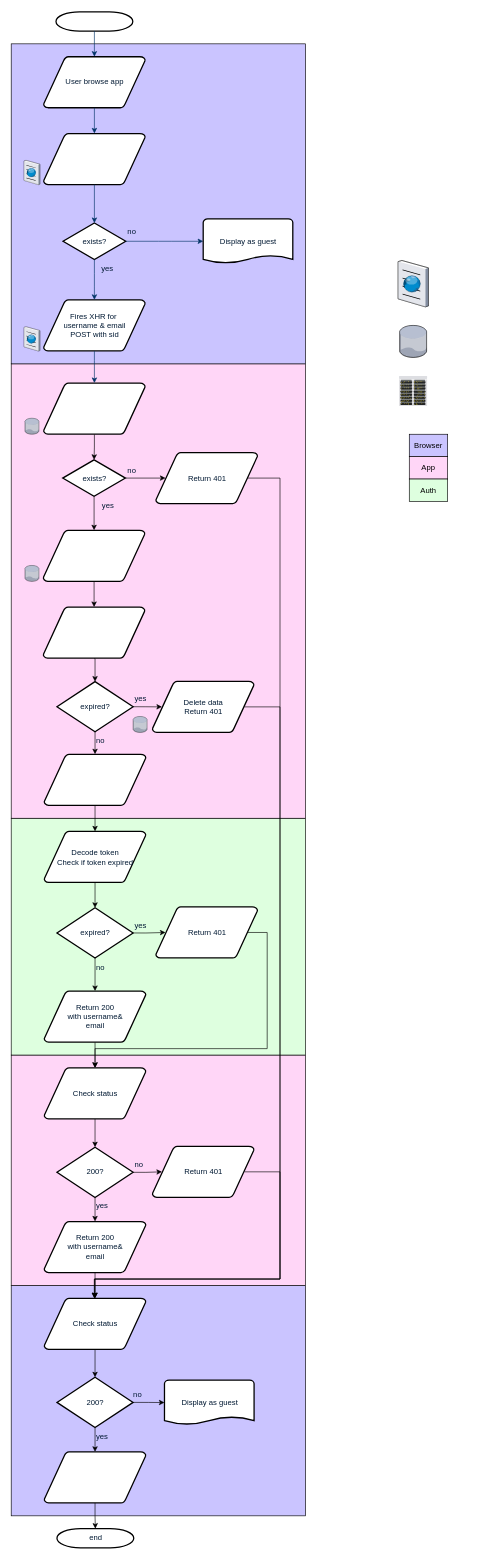
Some shapes in this 498 by 1559 pixel diagram are drawn without their labels. The centre of each missing label's shape, as x and y in pixels:
"App Database" belongs at point 413,341.
"Auth Database" belongs at point 413,391.
"Browser Storage" belongs at point 413,283.
"Check if sid exists in DB" belongs at point 94,408.
"Check if token expired" belongs at point 93,632.
"Display as user" belongs at point 94,1477.
"Fires request for user info" belongs at point 94,779.
"JS checks if sid exists in cookies" belongs at point 94,158.
"Retrieve token using sid" belongs at point 93,555.
"start" belongs at point 94,21.
